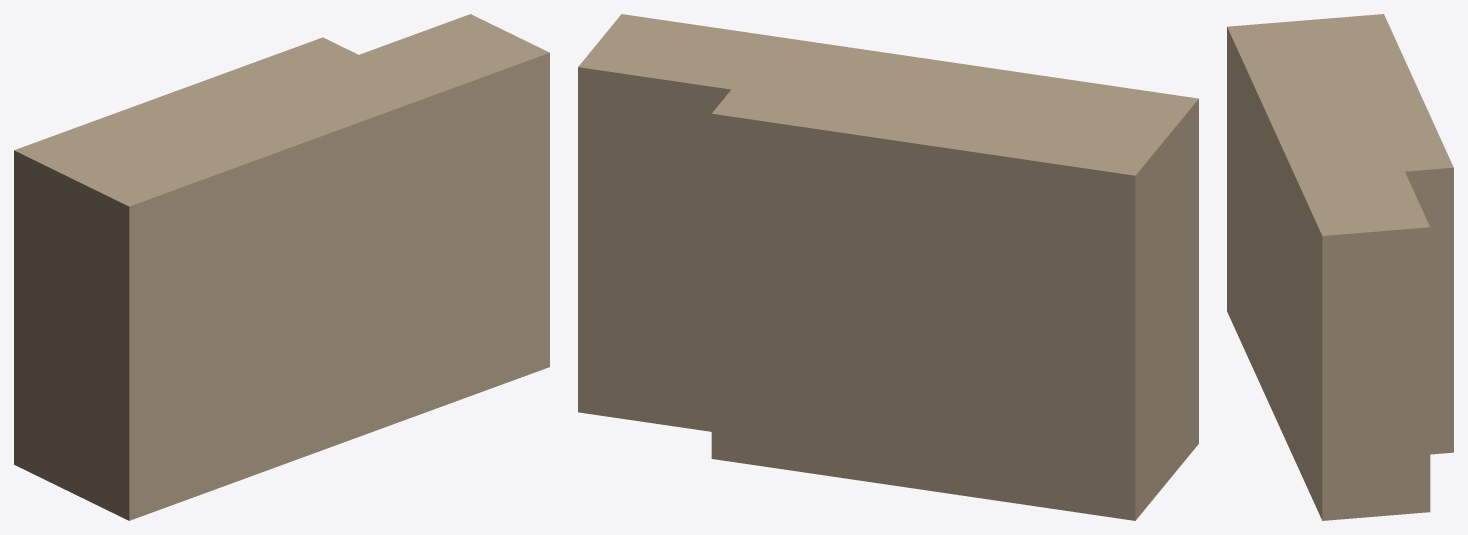
File: bld_99872201.dae
The picture shows the model from 3 angles, left to right: view 1: azimuth 30°, elevation 25°; view 2: azimuth 150°, elevation 25°; view 3: azimuth 270°, elevation 25°; orthographic projection. The views are drawn at different scales.
Visible parts, largest first — view 1: bld_99872201; view 2: bld_99872201; view 3: bld_99872201.
Part boxes in pixels (x1,y1,x2,y2): bld_99872201: (14, 14, 549, 520); bld_99872201: (578, 14, 1198, 520); bld_99872201: (1227, 14, 1453, 520).
Size of the model in its own units: 13.37 by 5.77 by 8.
